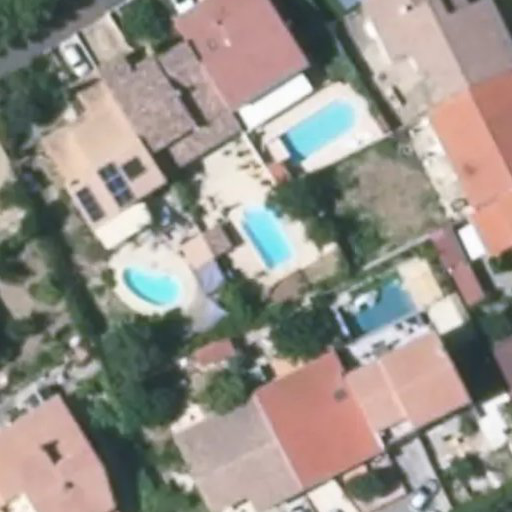pool: (226, 225, 285, 259)
